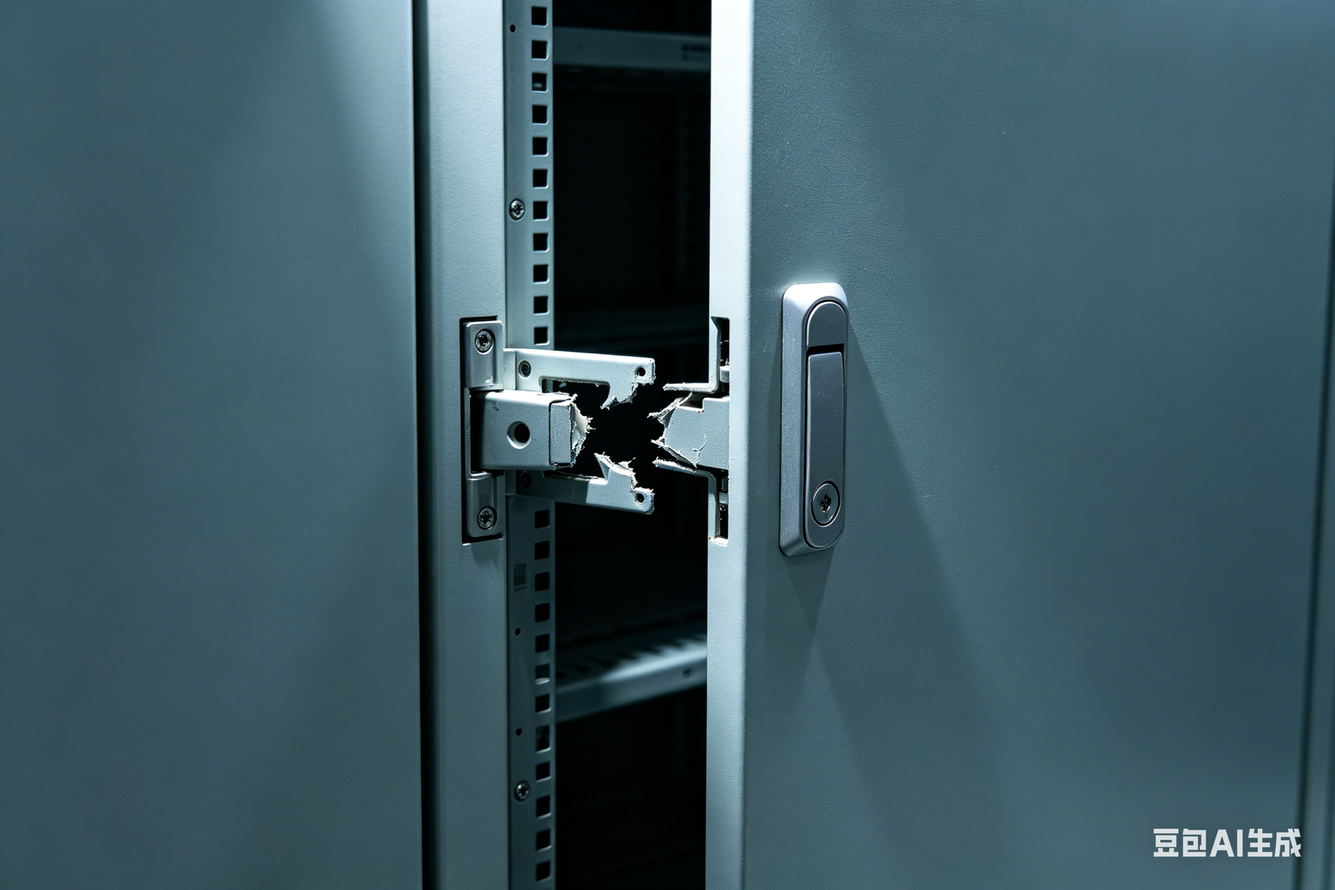BadLock: (454, 312, 848, 558)
